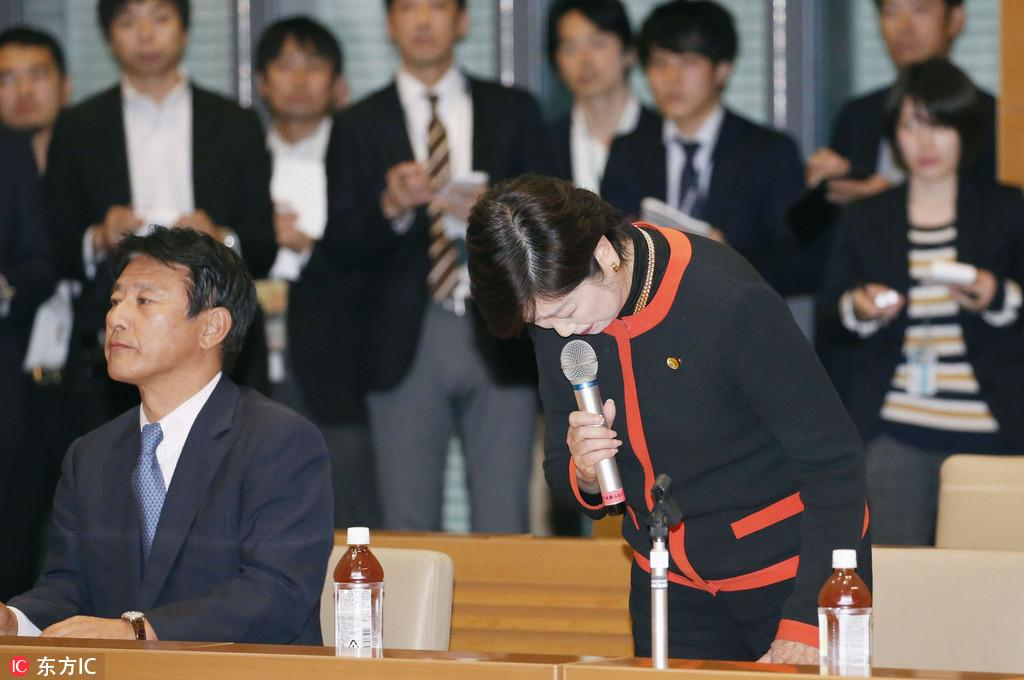bending: (470, 182, 887, 665)
up: (334, 1, 543, 538), (845, 60, 1024, 582)
